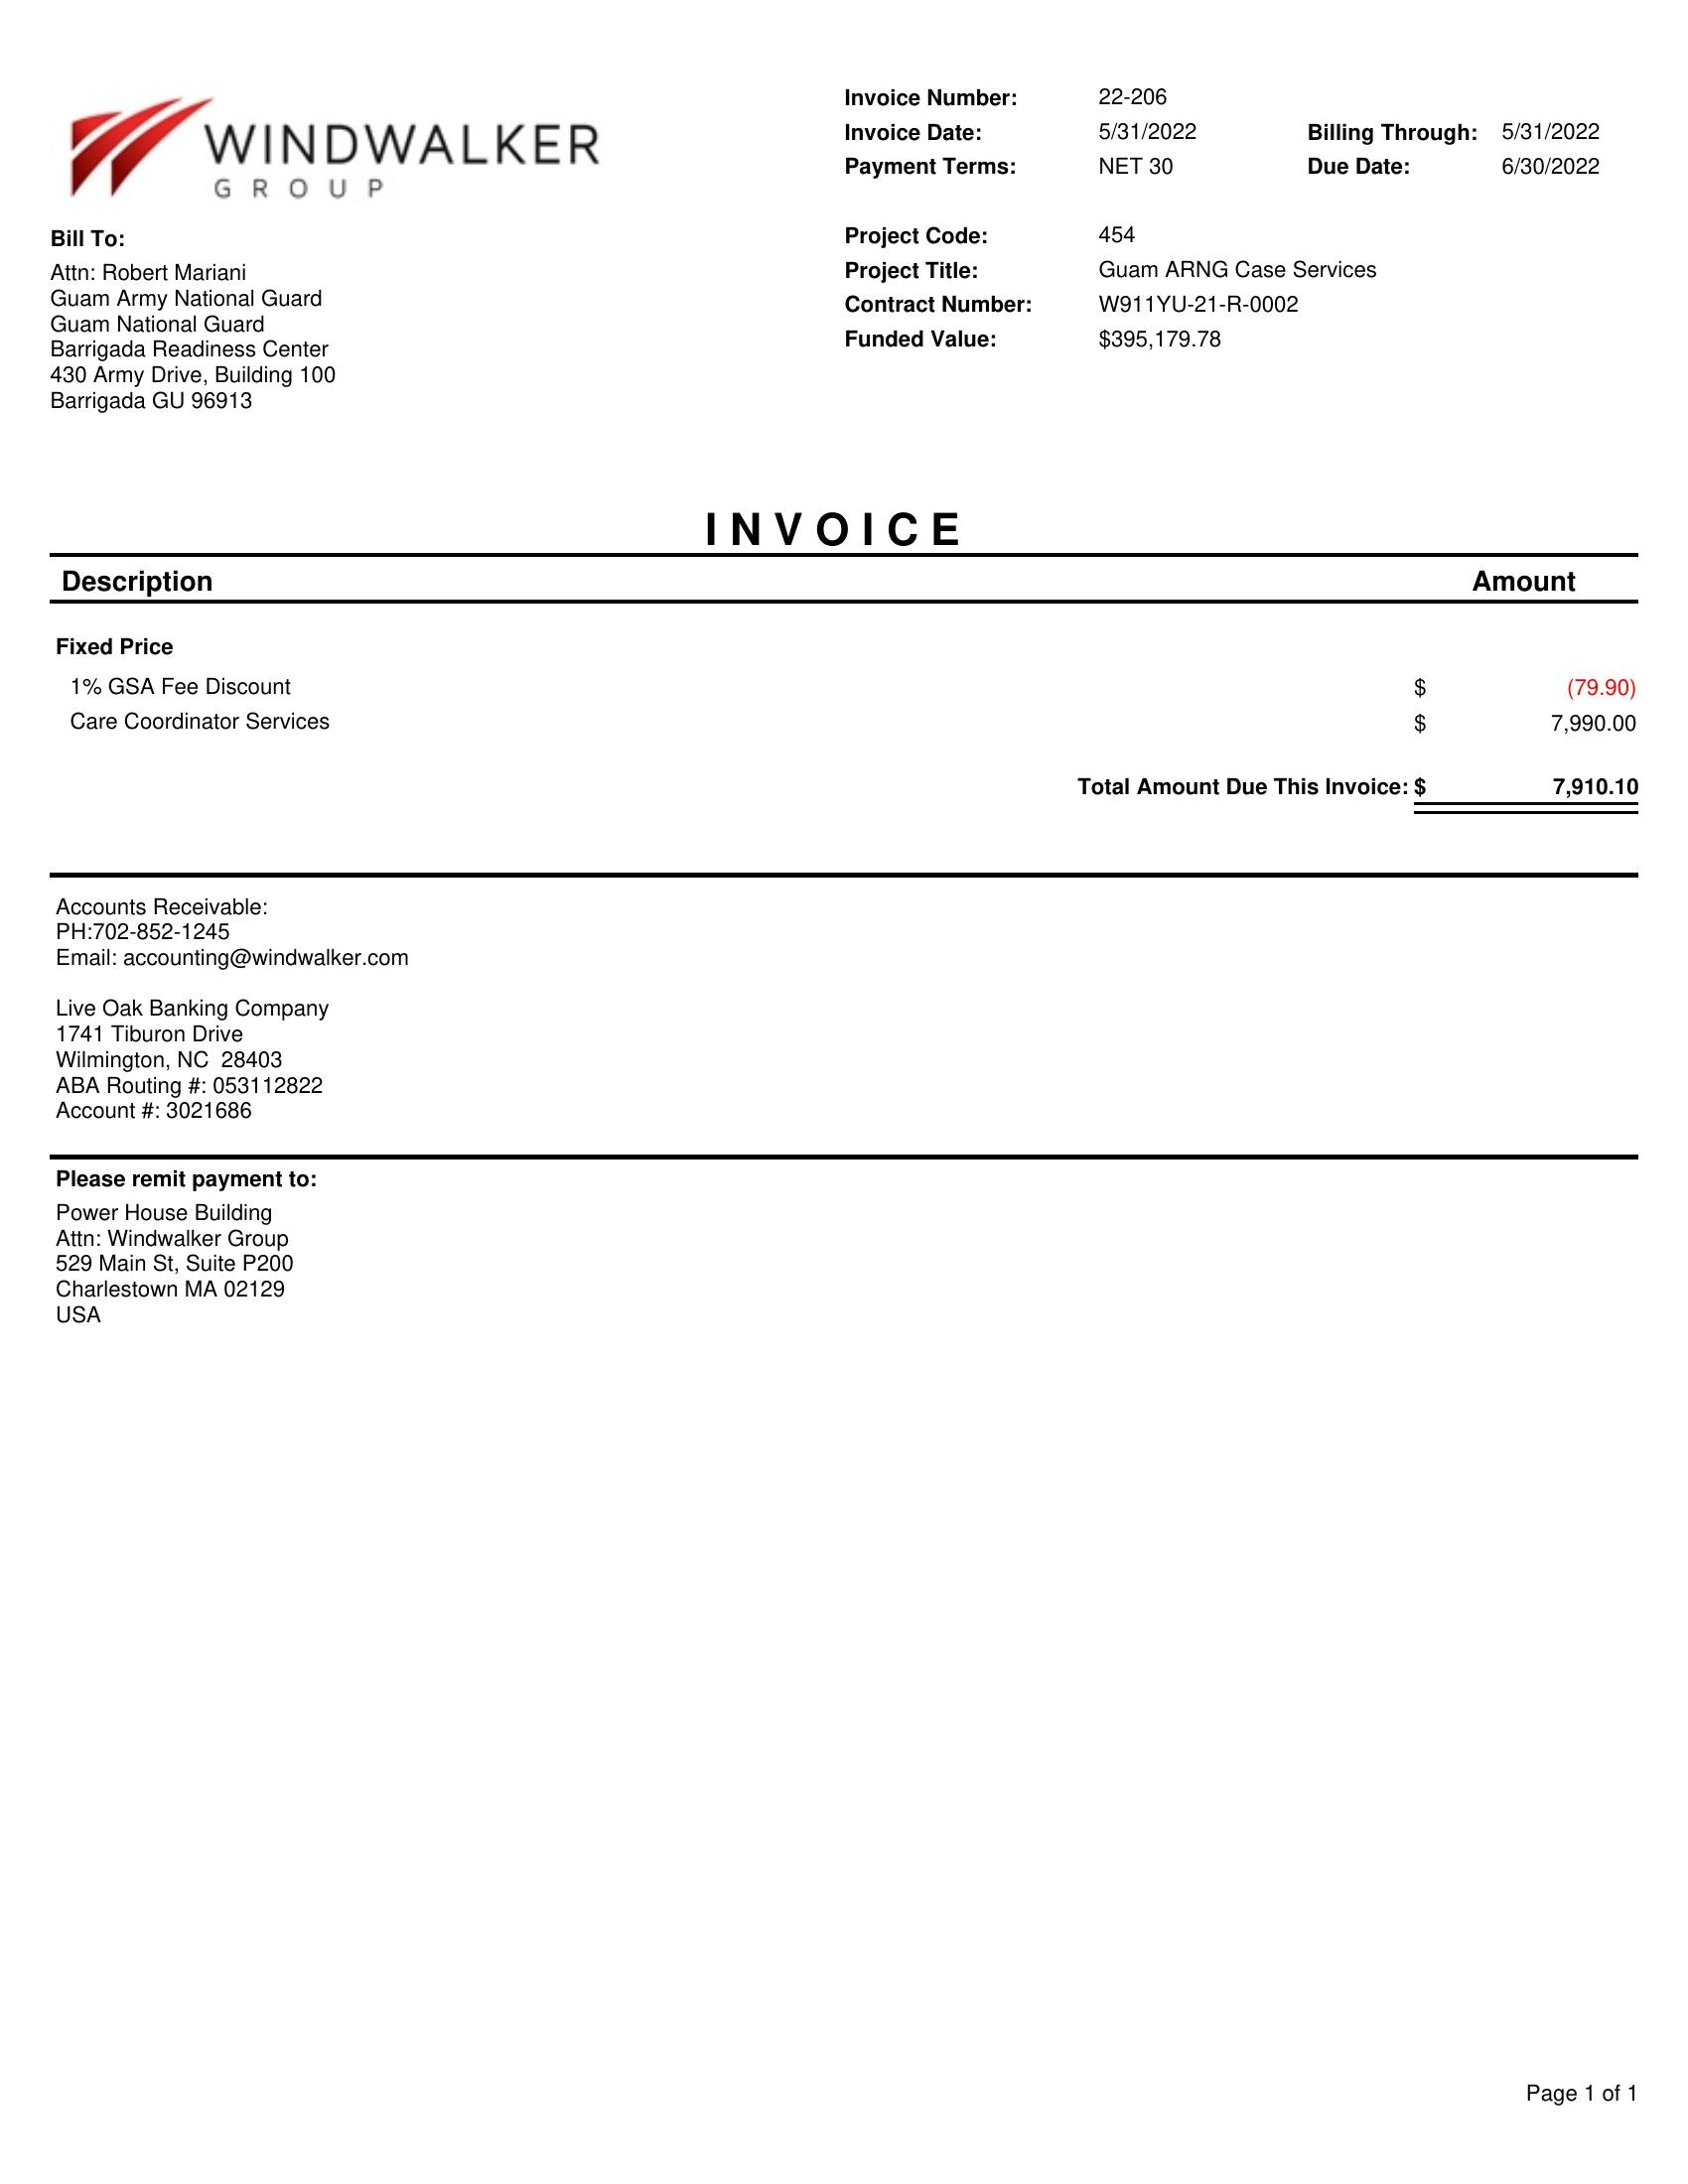table: (18, 555, 1660, 854)
